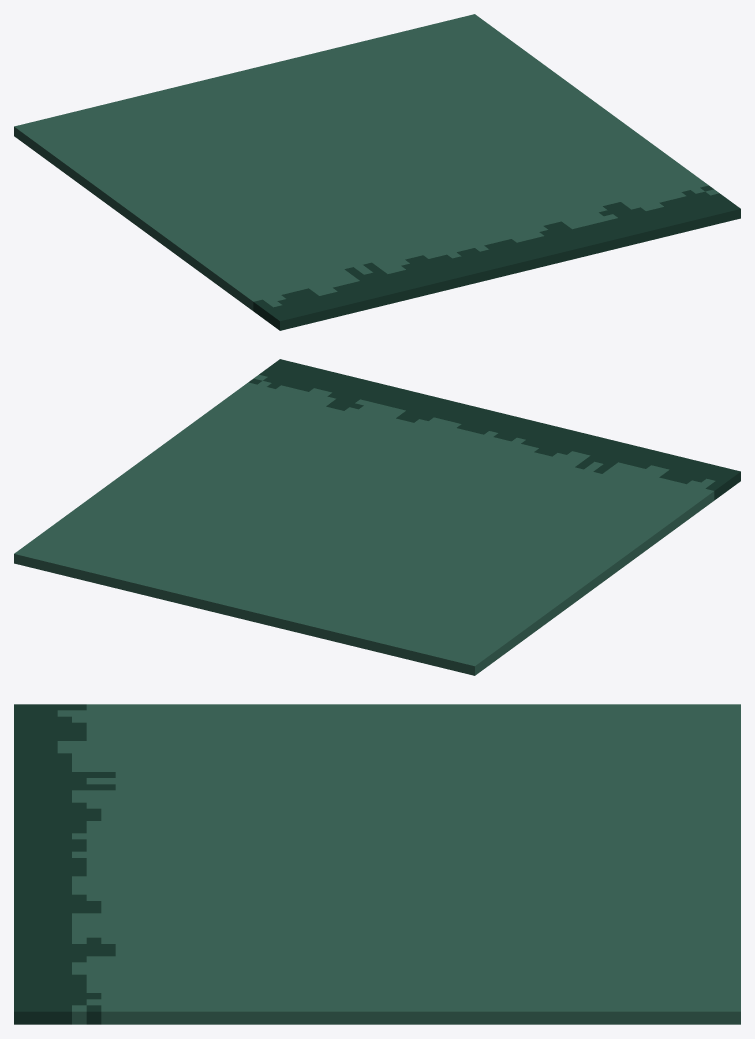
File: WallGround.obj
3 views of the same model, one above another, from view 1: azimuth 30°, elevation 25°; view 2: azimuth 150°, elevation 25°; view 3: azimuth 270°, elevation 25° (orthographic). The views are drawn at different scales.
Bounding box in the file's own units: 5 × 0.1 × 5.
Materials: 1 (1 with a texture image).
